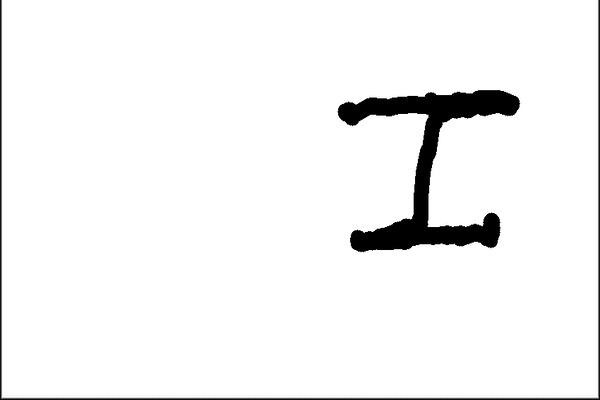i: (334, 80, 517, 254)
